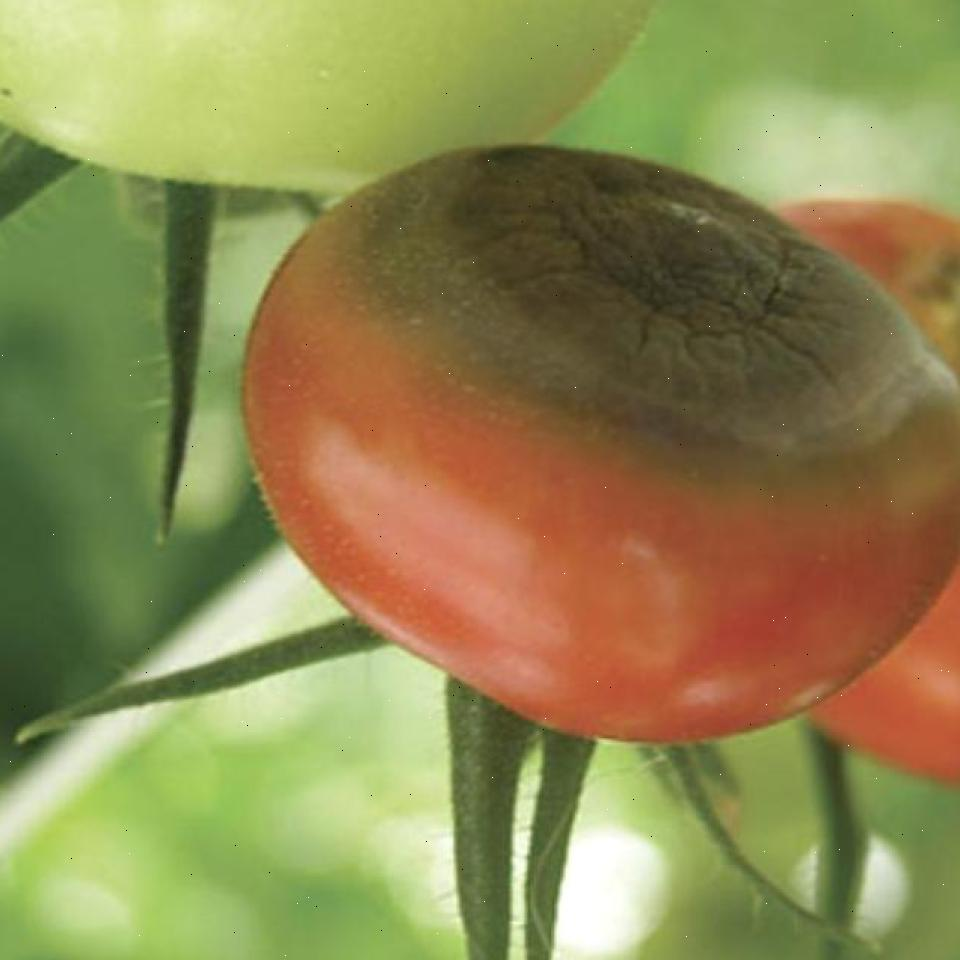Blossom_end_rot: (316, 156, 960, 504)
